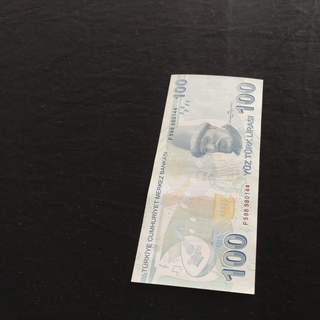100TLBack: (130, 73, 263, 295)
